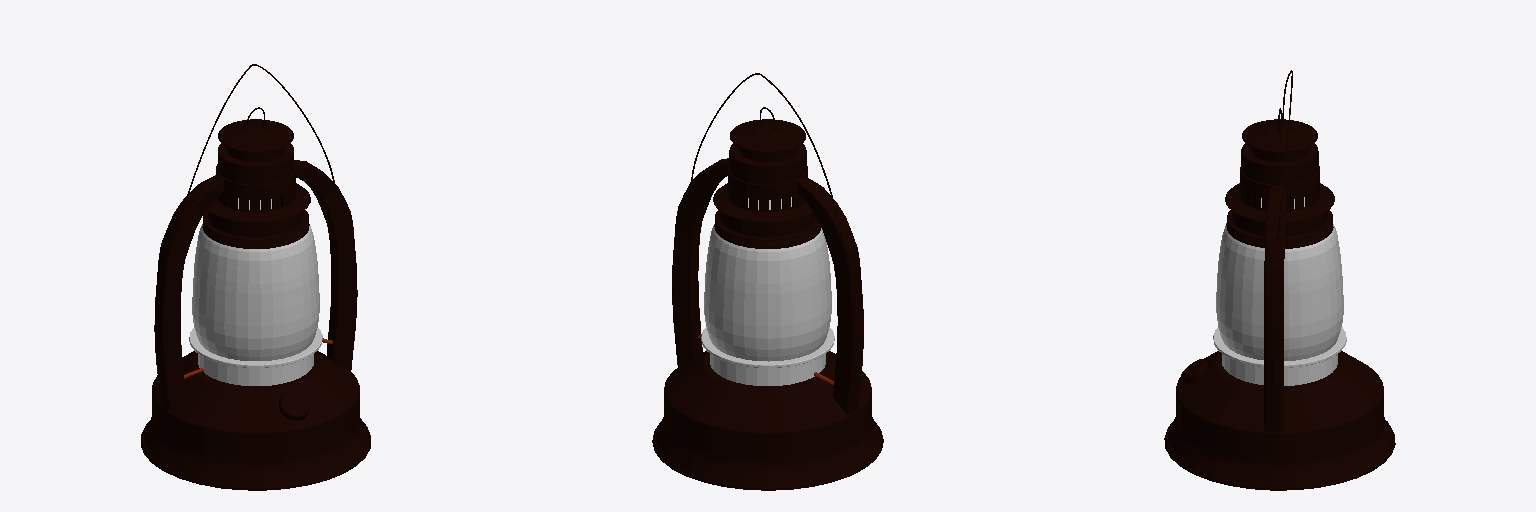
Rendered from Lantern.obj.
3 views of the same model, side by side, from view 1: azimuth 30°, elevation 25°; view 2: azimuth 150°, elevation 25°; view 3: azimuth 270°, elevation 25° (orthographic).
Parts seen in each view (by area): view 1: Lantern; view 2: Lantern; view 3: Lantern.
Part boxes in pixels (x1,y1,x2,y2): Lantern: (141, 64, 370, 490); Lantern: (652, 73, 883, 490); Lantern: (1164, 70, 1395, 490).
Size of the model in its own units: 0.5932 by 1.06 by 0.5932.